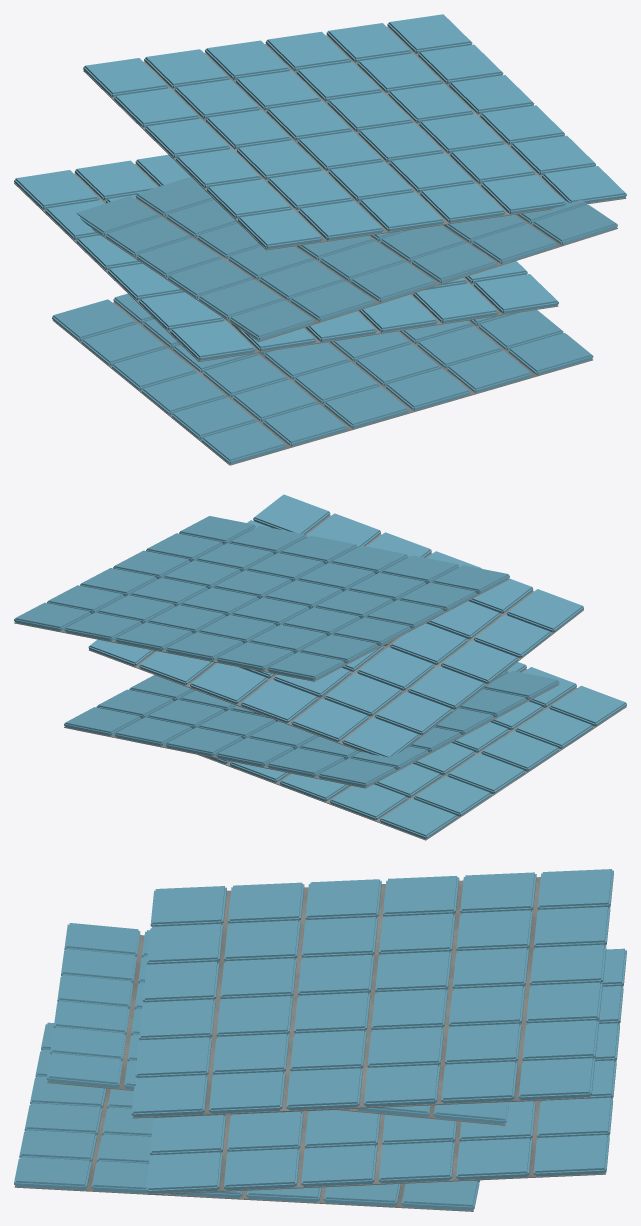
File: REV-CER-004_anim.glb
3 views of the same model, one above another, from view 1: azimuth 30°, elevation 25°; view 2: azimuth 150°, elevation 25°; view 3: azimuth 270°, elevation 25° (orthographic). The views are drawn at different scales.
Visible parts, largest first — view 1: REV-CER-004_anim3, REV-CER-004_anim0, REV-CER-004_anim2, REV-CER-004_anim1; view 2: REV-CER-004_anim3, REV-CER-004_anim2, REV-CER-004_anim1, REV-CER-004_anim0; view 3: REV-CER-004_anim3, REV-CER-004_anim1, REV-CER-004_anim0, REV-CER-004_anim2.
Part boxes in pixels (x1,y1,x2,y2): REV-CER-004_anim3: (83,14,626,250); REV-CER-004_anim0: (52,293,593,465); REV-CER-004_anim2: (76,176,617,341); REV-CER-004_anim1: (14,154,558,361); REV-CER-004_anim3: (14,516,509,681); REV-CER-004_anim2: (88,494,583,757); REV-CER-004_anim1: (64,670,559,788); REV-CER-004_anim0: (198,662,626,840); REV-CER-004_anim3: (131,869,613,1118); REV-CER-004_anim1: (146,948,626,1194); REV-CER-004_anim0: (14,1022,479,1211); REV-CER-004_anim2: (46,923,509,1125).
Bounding box in the file's own units: 0.3834 × 0.1618 × 0.3943.
Materials: 2 (1 with a texture image).
